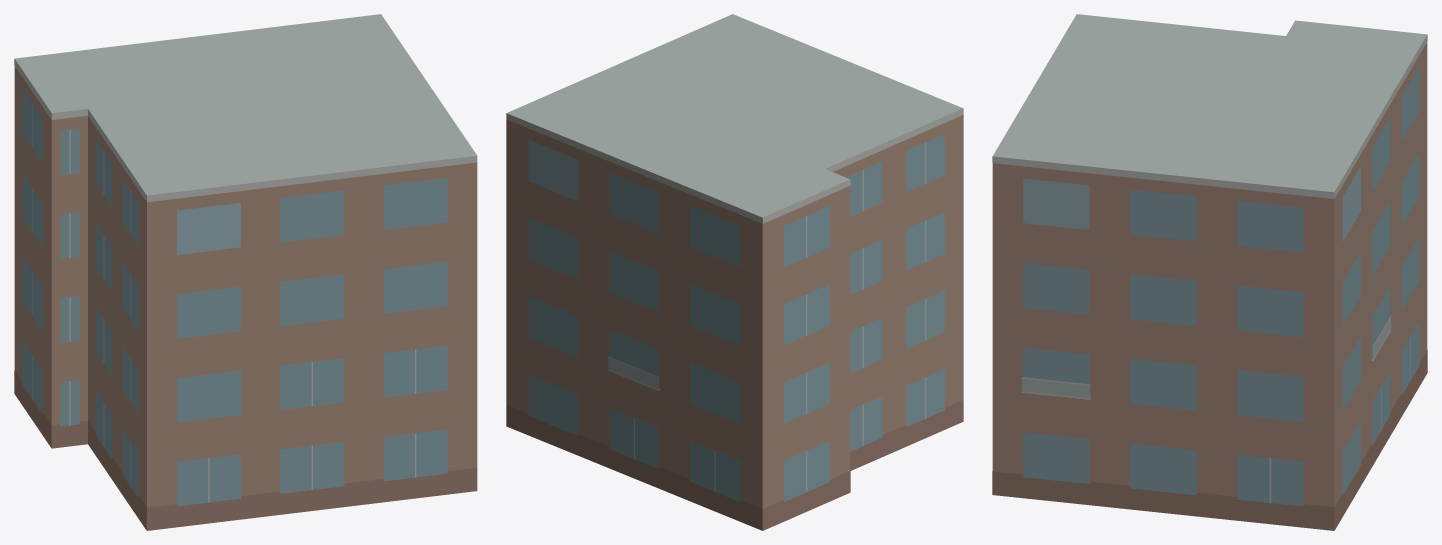
Rendered from residential-18cff395-3363-4196-aba8-e8a76310a31f.glb.
The picture shows the model from 3 angles, left to right: view 1: azimuth 30°, elevation 25°; view 2: azimuth 150°, elevation 25°; view 3: azimuth 270°, elevation 25°; orthographic projection. The views are drawn at different scales.
Visible parts, largest first — view 1: residential-18cff395-3363-4196-aba8-e8a76310a31f.tmp; view 2: residential-18cff395-3363-4196-aba8-e8a76310a31f.tmp; view 3: residential-18cff395-3363-4196-aba8-e8a76310a31f.tmp.
Part boxes in pixels (left/top/right/bottom): residential-18cff395-3363-4196-aba8-e8a76310a31f.tmp: left=14, top=14, right=477, bottom=530; residential-18cff395-3363-4196-aba8-e8a76310a31f.tmp: left=506, top=14, right=963, bottom=530; residential-18cff395-3363-4196-aba8-e8a76310a31f.tmp: left=992, top=14, right=1427, bottom=530.
Bounding box in the file's own units: 13.79 × 12.2 × 14.22.
